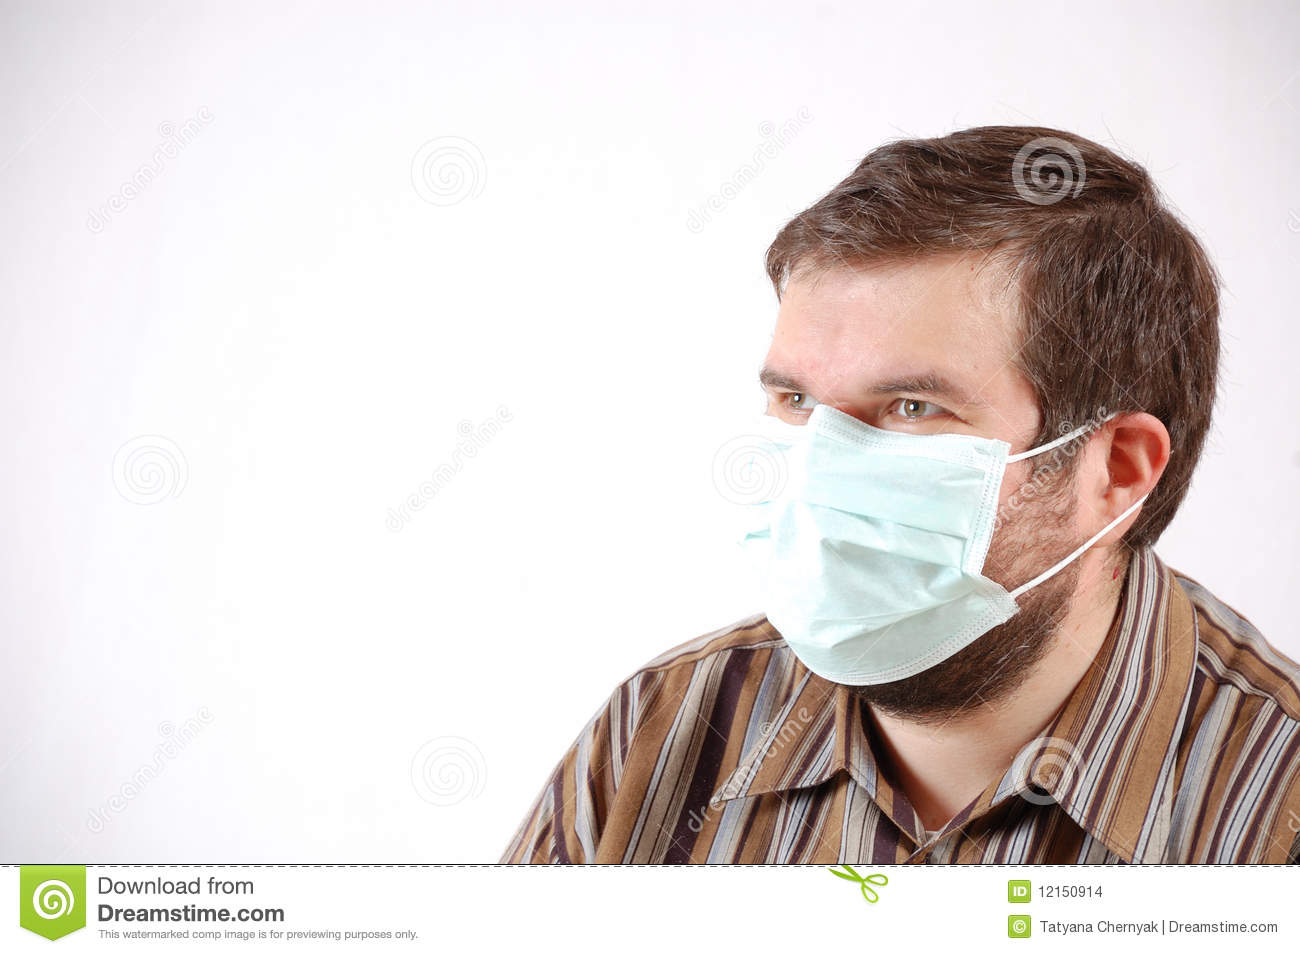mask: (719, 405, 1022, 675)
